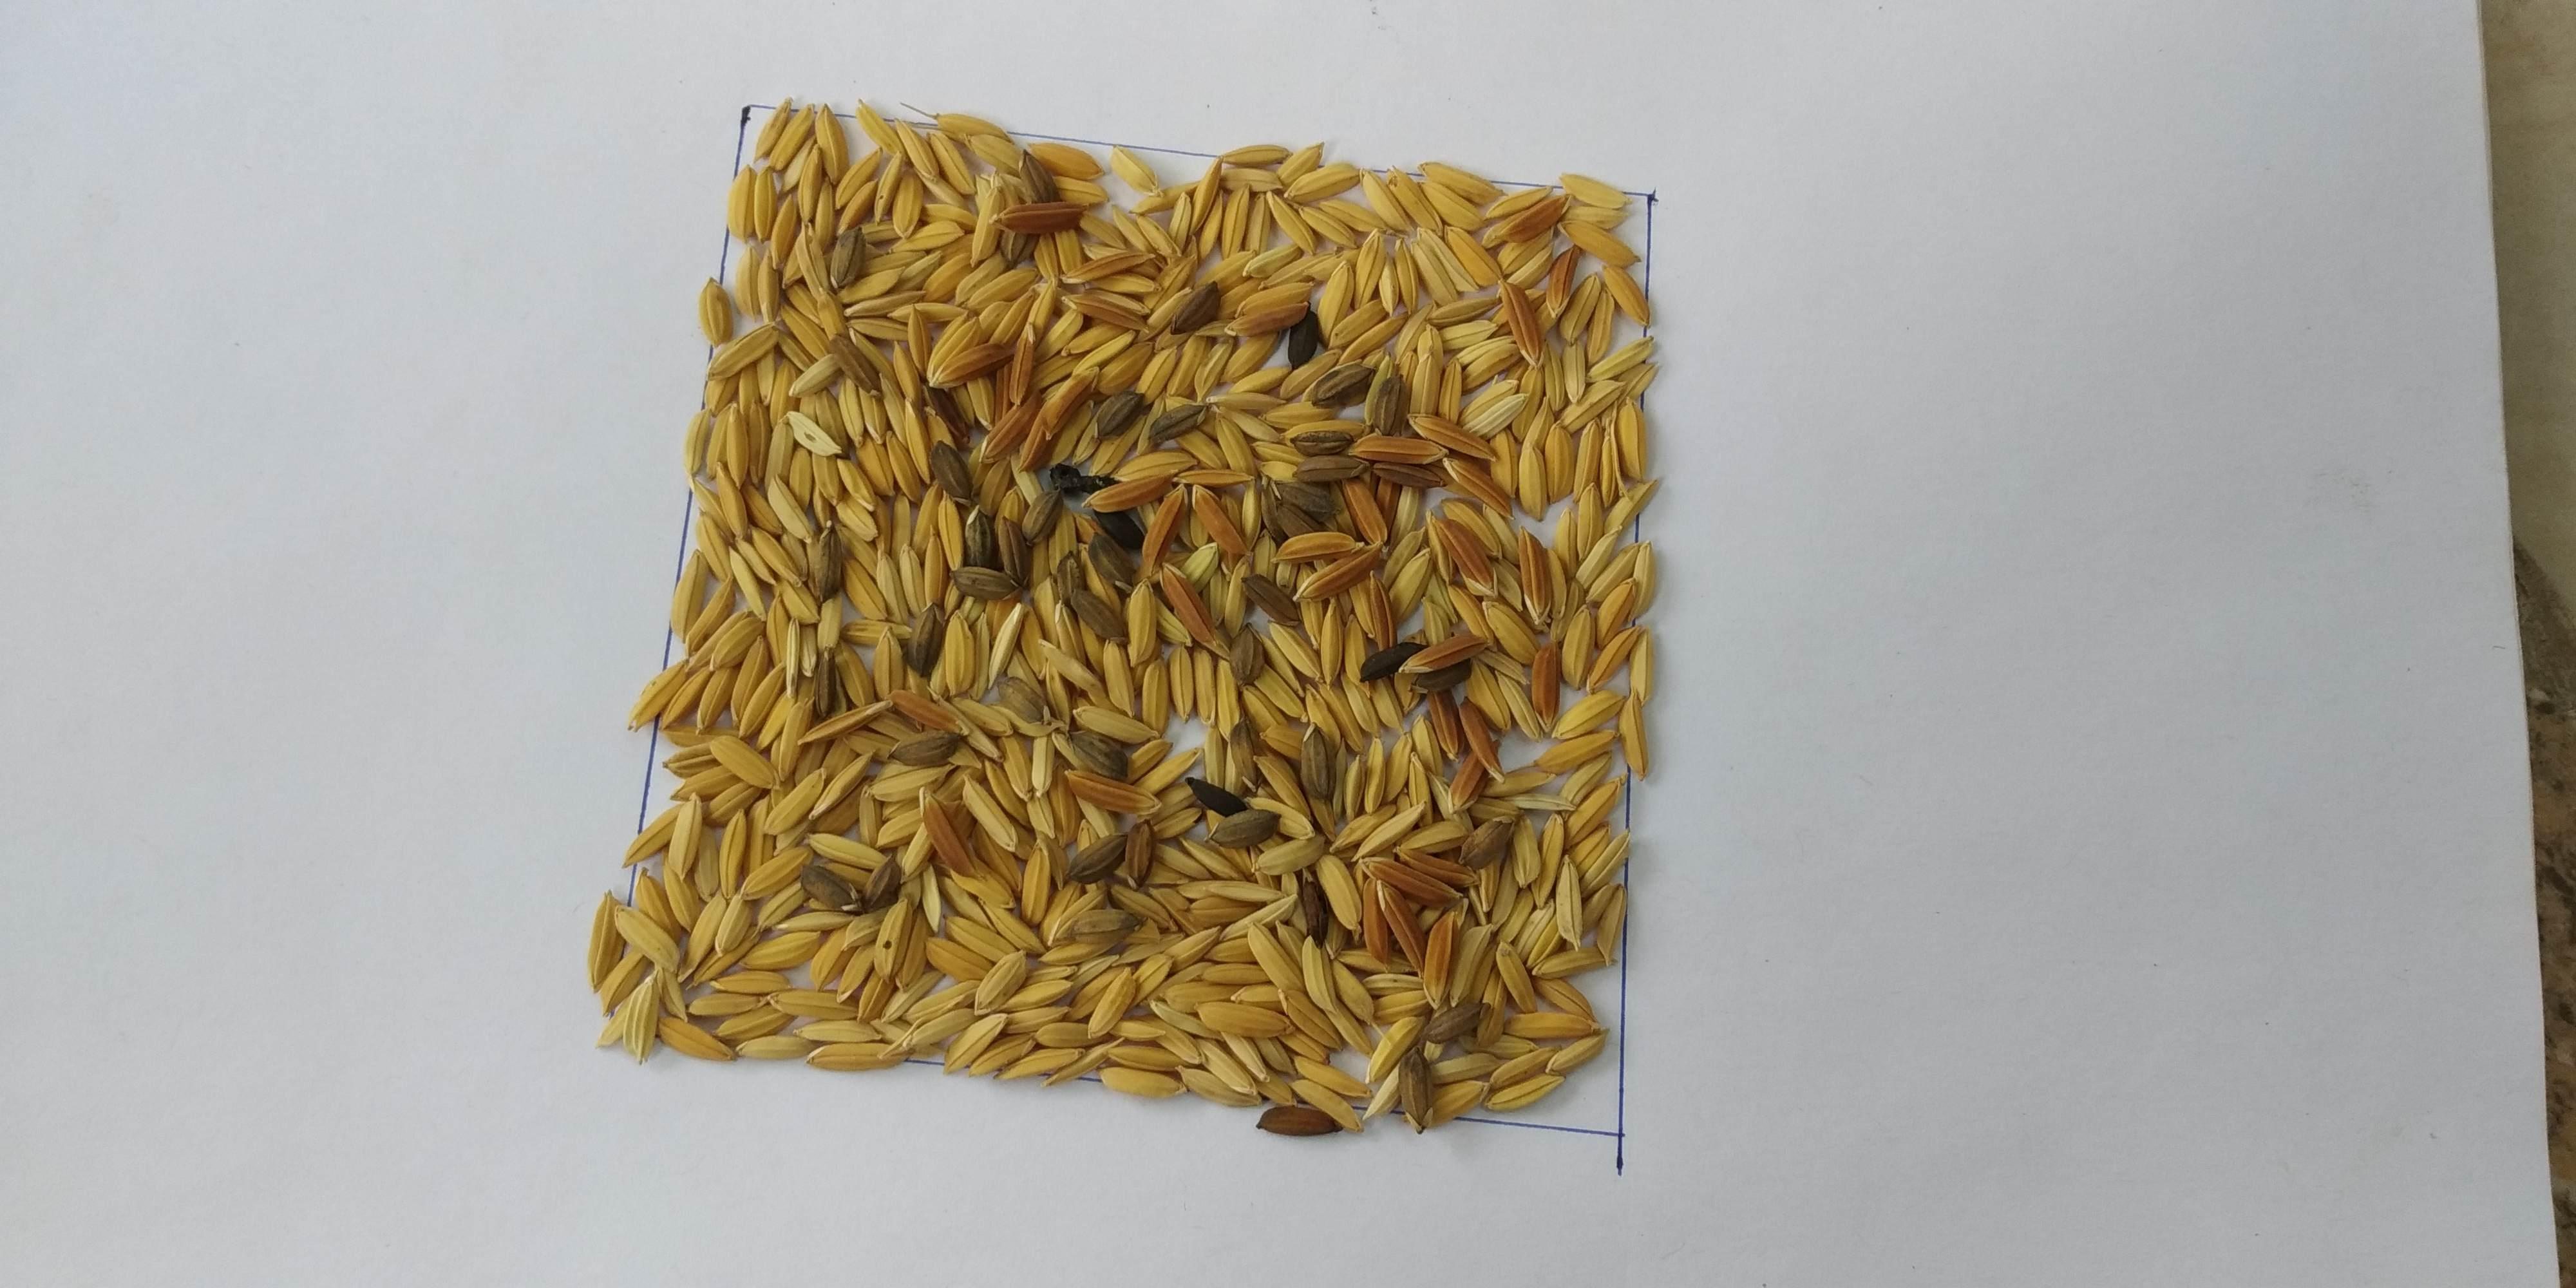impure: (751, 187, 1541, 1050)
